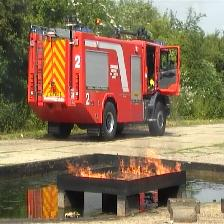fire: (112, 148, 182, 180), (66, 161, 111, 179)
